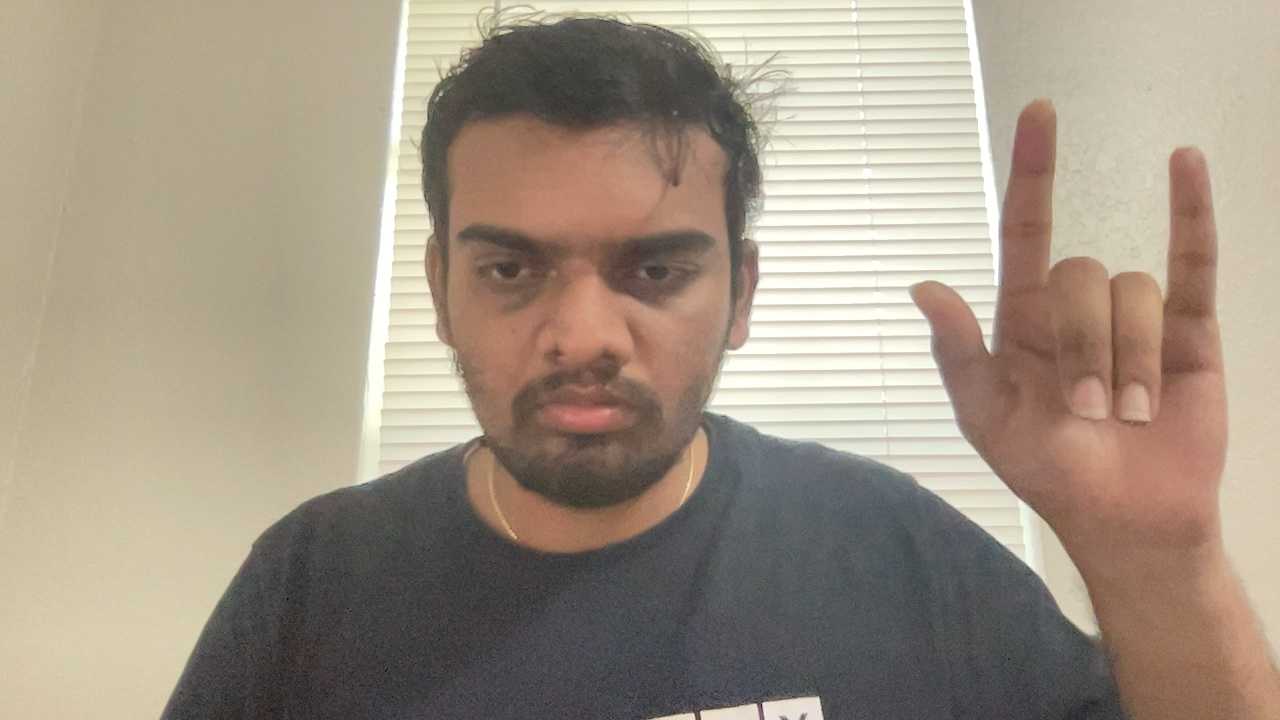i love you: (905, 83, 1250, 553)
